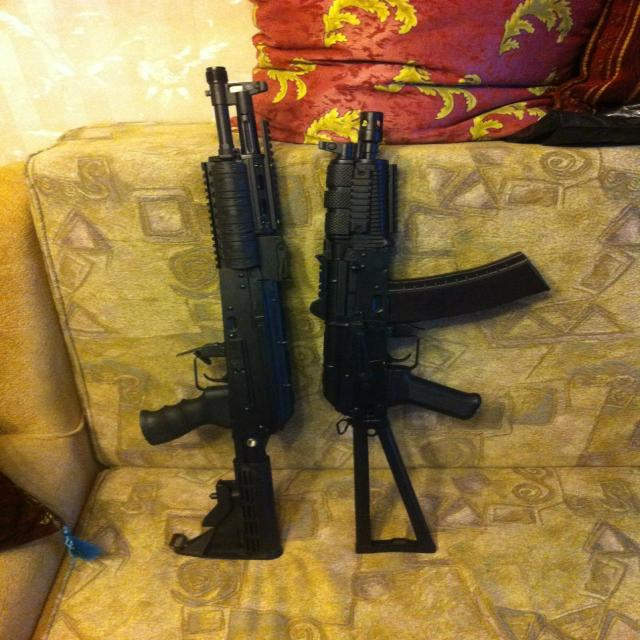firearm: (318, 112, 546, 553), (142, 68, 299, 558)
